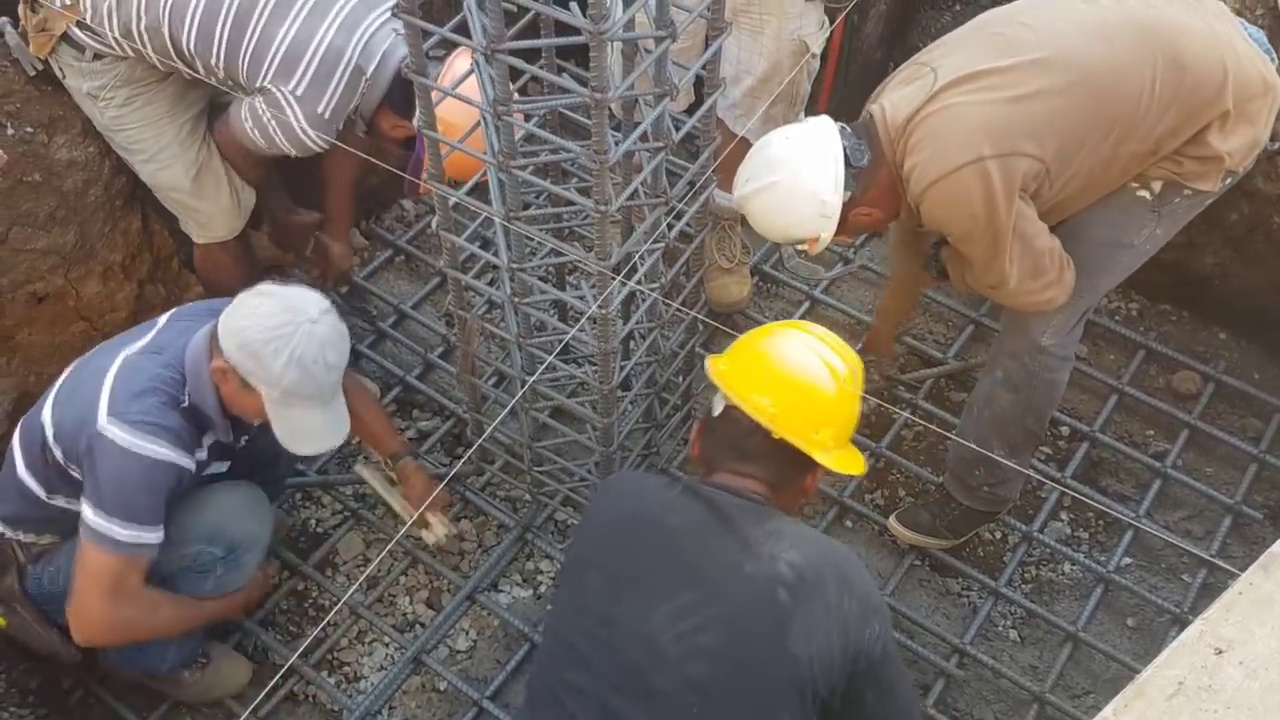helmet: (705, 320, 867, 479), (408, 44, 525, 201), (727, 112, 846, 256)
helmet-off: (204, 280, 351, 455)
helmet-on: (681, 316, 870, 514), (728, 105, 918, 256), (366, 33, 529, 201)
person: (727, 0, 1278, 551), (3, 281, 451, 711), (517, 315, 921, 718), (18, 4, 530, 287), (592, 2, 834, 318)
